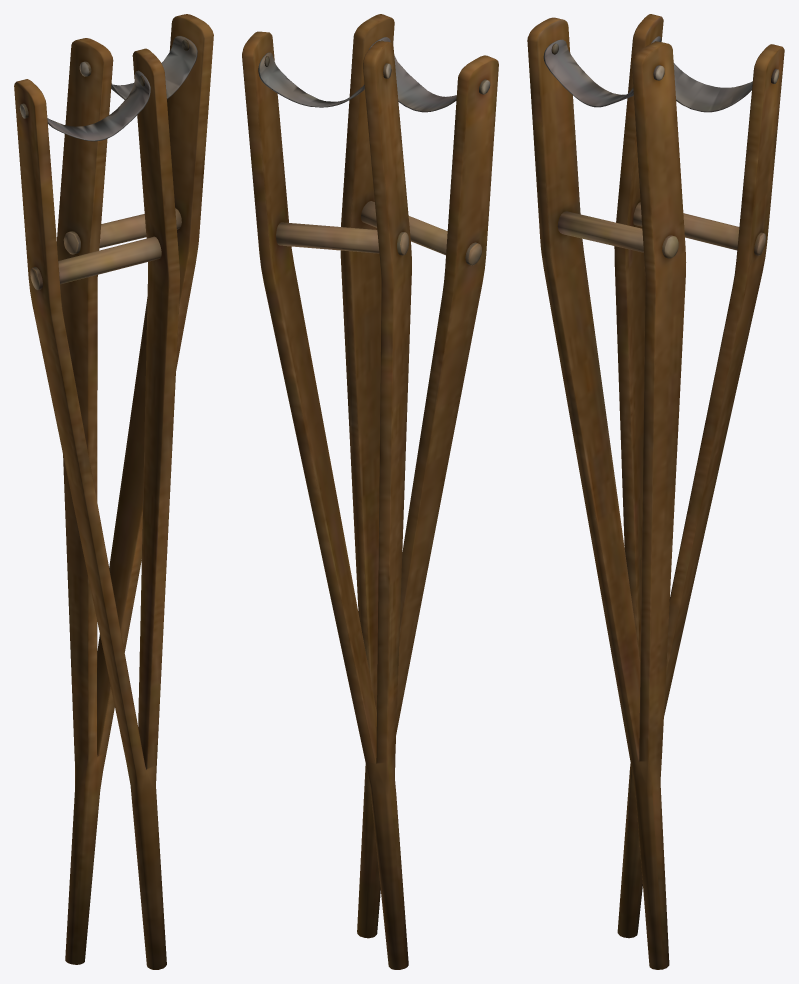
The model's file is ph_vintage_crutches_01.glb.
3 renders of one model, left to right at view 1: azimuth 30°, elevation 25°; view 2: azimuth 150°, elevation 25°; view 3: azimuth 330°, elevation 25°, orthographic.
Visible parts, largest first — view 1: vintage_crutches_01_crutch01, vintage_crutches_01_crutch02; view 2: vintage_crutches_01_crutch02, vintage_crutches_01_crutch01; view 3: vintage_crutches_01_crutch01, vintage_crutches_01_crutch02.
Part boxes in pixels (x1=…): vintage_crutches_01_crutch01: x1=14, y1=48, x2=180, y2=969; vintage_crutches_01_crutch02: x1=57, y1=14, x2=213, y2=964; vintage_crutches_01_crutch02: x1=242, y1=31, x2=411, y2=969; vintage_crutches_01_crutch01: x1=340, y1=14, x2=498, y2=938; vintage_crutches_01_crutch01: x1=527, y1=17, x2=686, y2=969; vintage_crutches_01_crutch02: x1=614, y1=14, x2=784, y2=938.
Size of the model in its own units: 0.3839 by 1.61 by 0.2036.
1 material, 1 textured.
